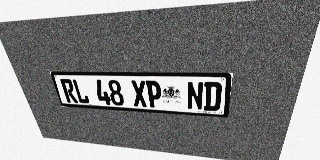4: (93, 79, 112, 105)
8: (107, 80, 125, 106)
D: (203, 82, 222, 111)
L: (72, 79, 90, 104)
N: (187, 81, 204, 110)
P: (145, 80, 162, 108)
R: (60, 79, 78, 103)
X: (130, 80, 148, 107)
